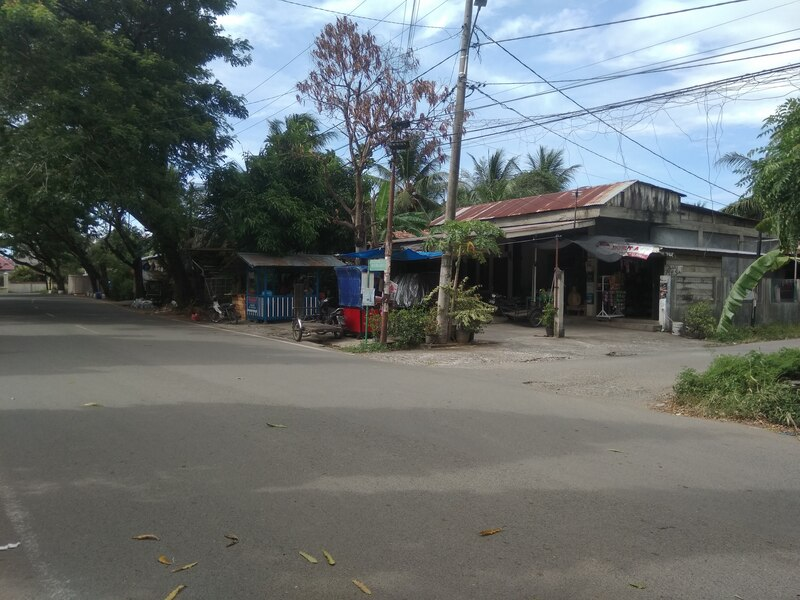becak barang: (285, 294, 349, 346)
